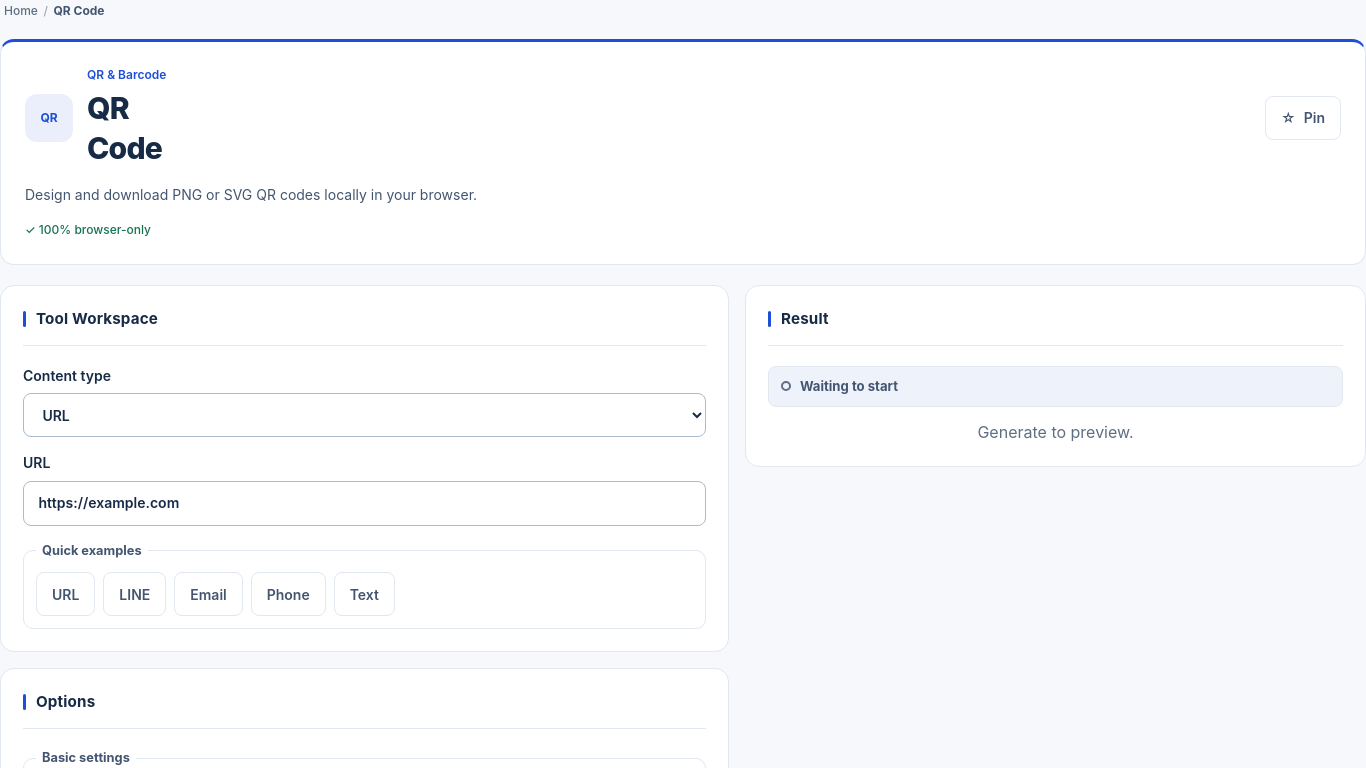
QrPage › auto-selects LINE icon when content type is Line
Select "LINE" in the dropdown labelled "Content type". click: (364, 415)
box: [23,393,706,437]
(page scrolled)
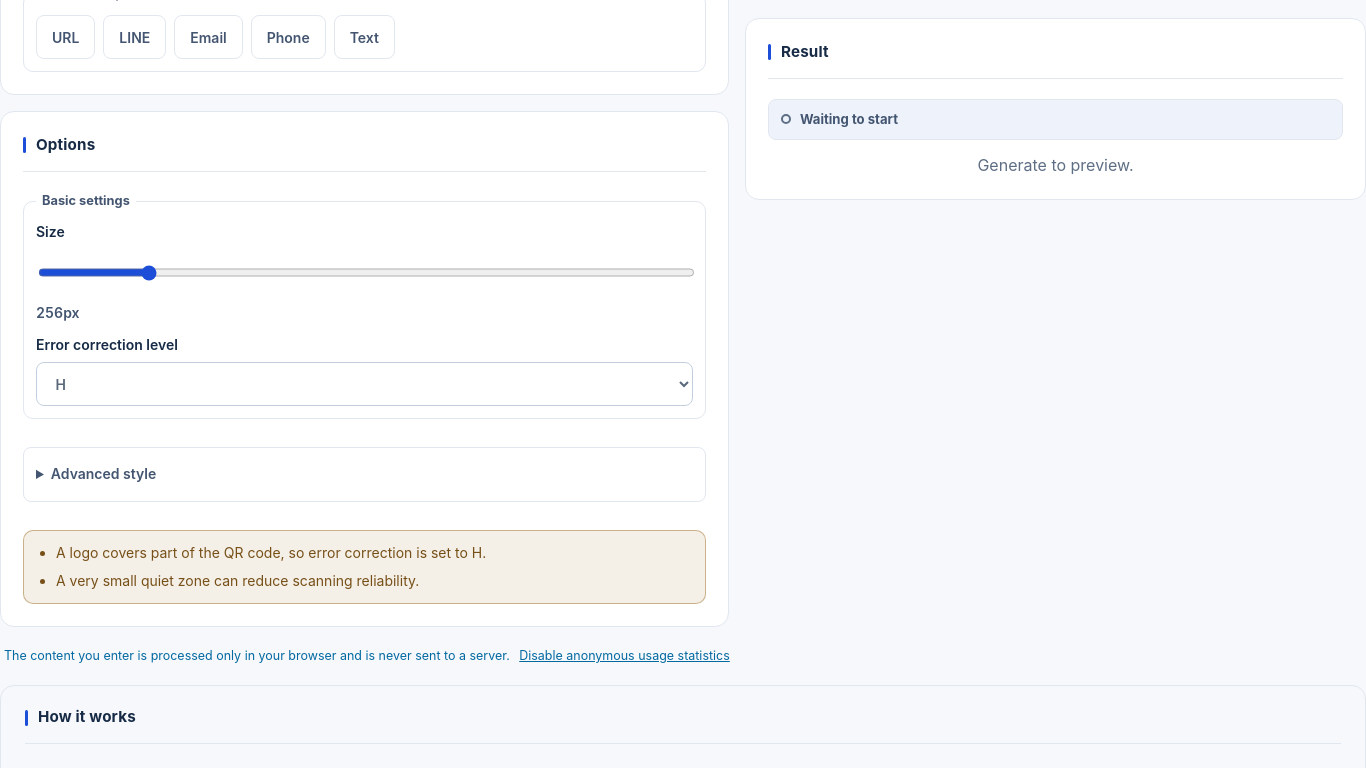
expect the dropdown labelled "Error correction level" shows "H": met, box [36,362,693,406]
expect the dropdown labelled "Error correction level" is disabled: met, box [36,362,693,406]
